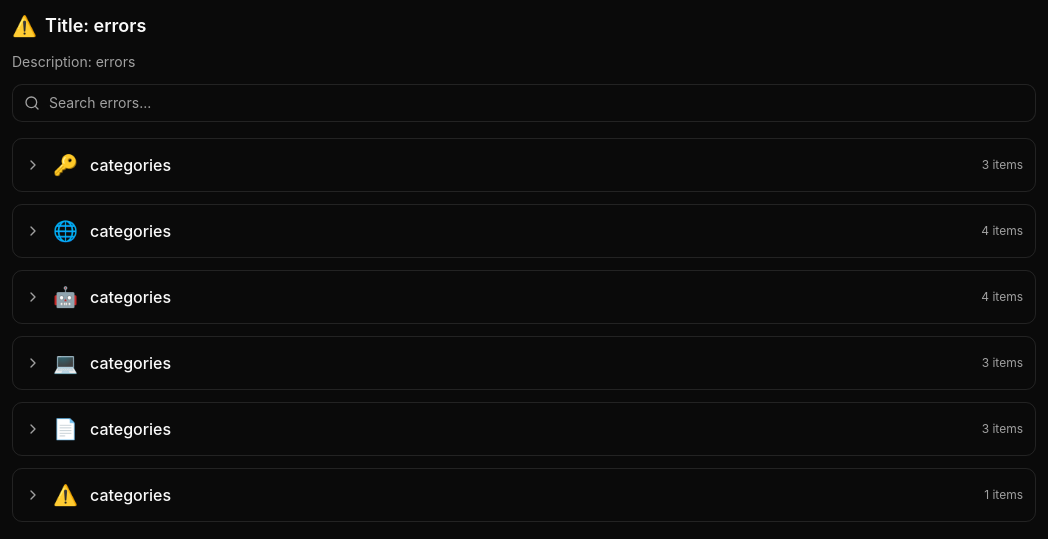
Test: ErrorSolutions › should filter errors based on search query
The width and height of the screenshot is (1048, 539).
Type "api" into the field with placeholder "Search errors..." at (524, 103), box [12,84,1036,122]
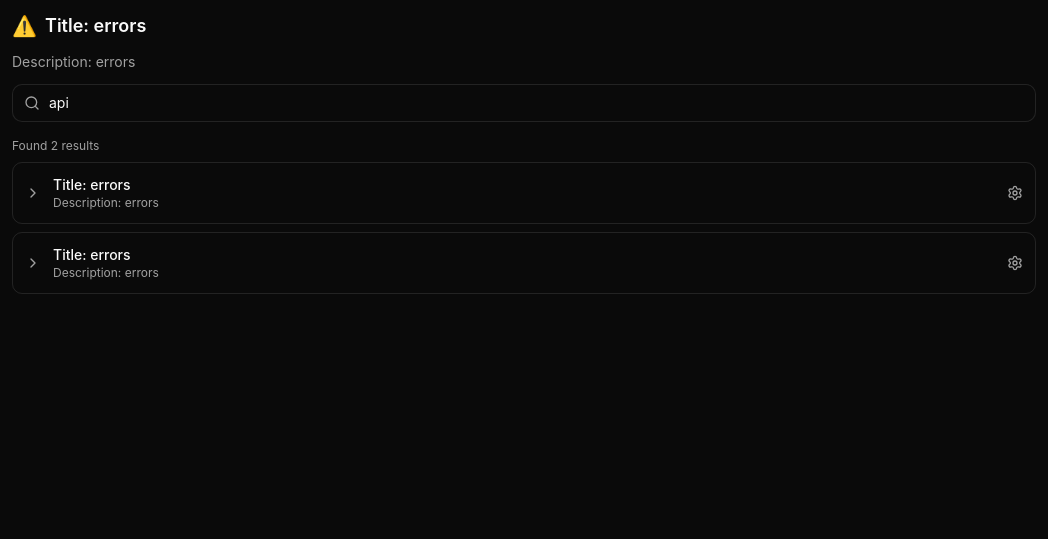
Check: the text "Found 2 results" is shown, box [12,138,99,153]
